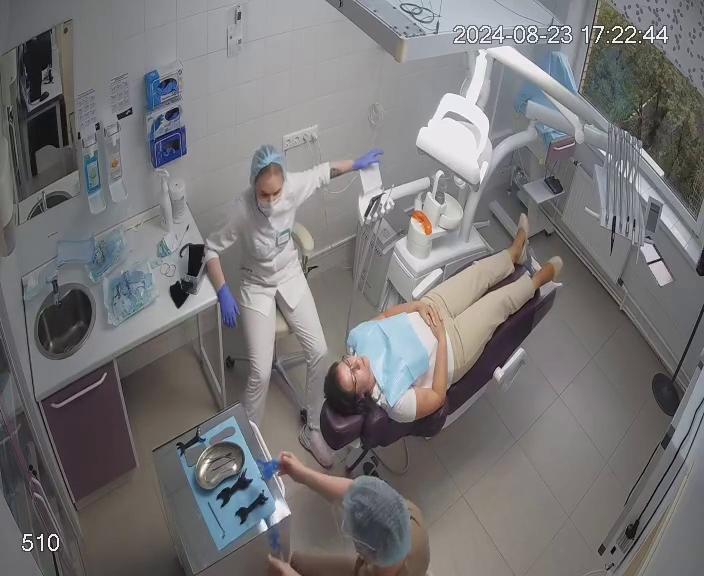Patient: (316, 213, 565, 453)
